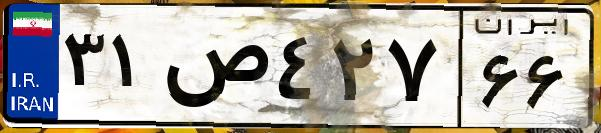1: (110, 28, 158, 98)
2: (330, 28, 385, 110)
3: (57, 26, 110, 100)
4: (270, 28, 330, 110)
6: (475, 38, 525, 113), (525, 38, 570, 115)
7: (385, 28, 445, 110)
ص: (158, 20, 270, 120)
